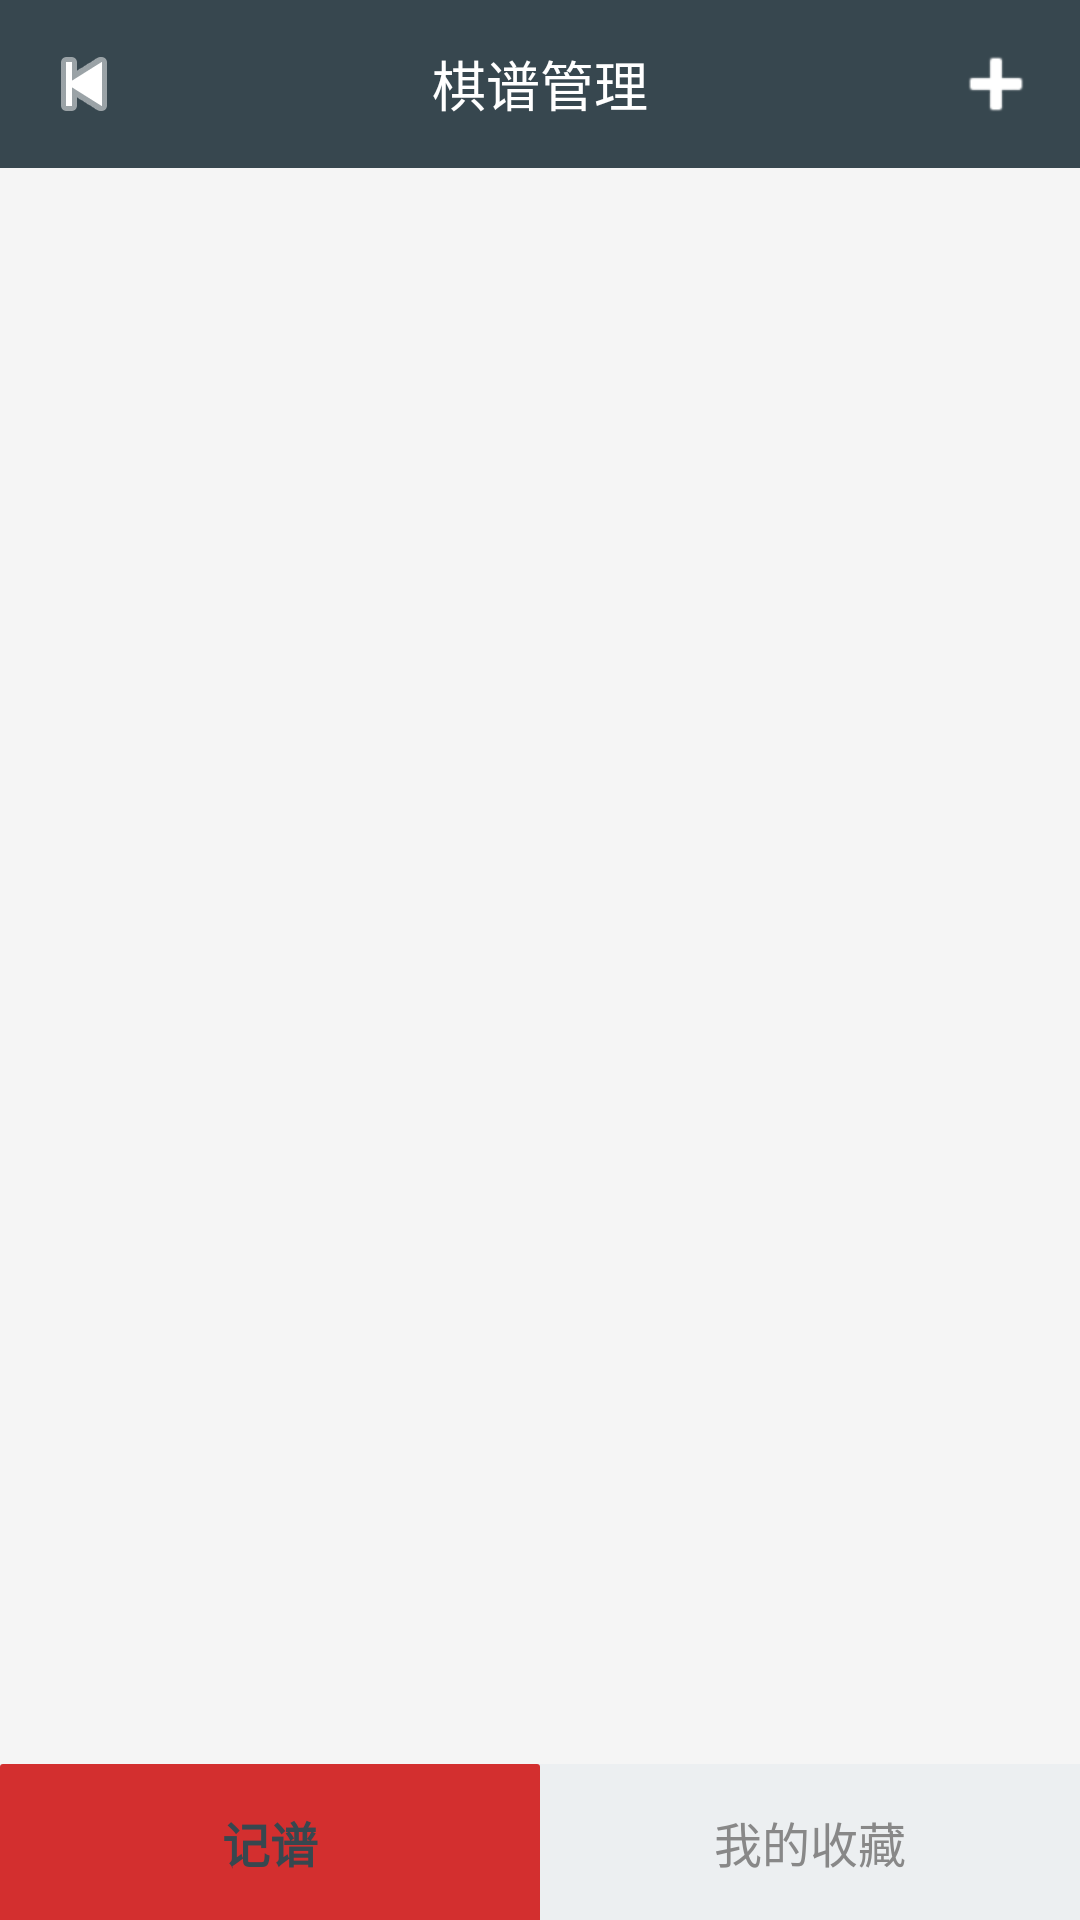

Screen size 1080px×1920px. Icon name, then its center in pixels as point (x, y):
新建: point (996, 84)
